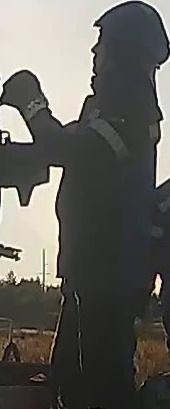gloves: (0, 68, 50, 126)
helmet: (89, 1, 170, 57)
vest: (54, 91, 165, 293)
